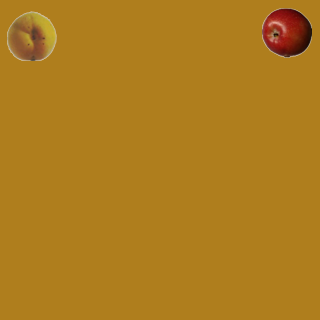Apple Braeburn: (261, 7, 311, 57)
Peach 2: (6, 10, 56, 60)
